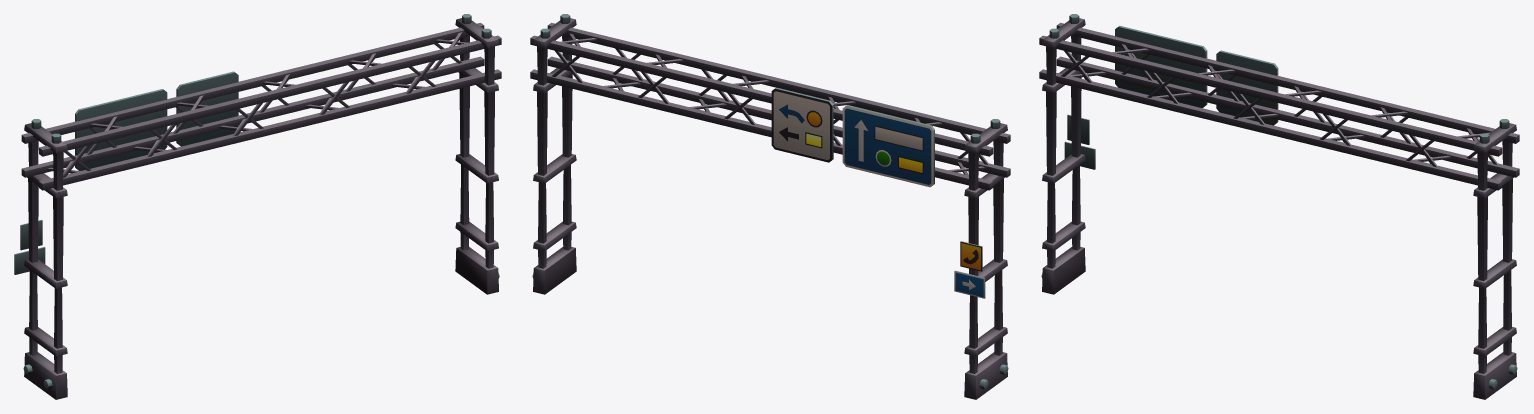
File: Highway_Streetsign_1B.fbx
3 renders of one model, left to right at view 1: azimuth 30°, elevation 25°; view 2: azimuth 150°, elevation 25°; view 3: azimuth 330°, elevation 25°, orthographic.
Parts seen in each view (by area): view 1: Highway_Streetsign_1B, Addon_Sign_1E, Addon_Sign_1D; view 2: Highway_Streetsign_1B, Addon_Sign_1E, Addon_Sign_1D, Addon_Sign_1G, Addon_Sign_1F; view 3: Highway_Streetsign_1B, Addon_Sign_1E, Addon_Sign_1D.
Part boxes in pixels (x1=…): Highway_Streetsign_1B: x1=21, y1=14, x2=501, y2=399; Addon_Sign_1E: x1=75, y1=89, x2=167, y2=170; Addon_Sign_1D: x1=176, y1=71, x2=238, y2=146; Highway_Streetsign_1B: x1=530, y1=14, x2=1010, y2=399; Addon_Sign_1E: x1=842, y1=105, x2=934, y2=187; Addon_Sign_1D: x1=771, y1=87, x2=833, y2=162; Addon_Sign_1G: x1=954, y1=270, x2=985, y2=298; Addon_Sign_1F: x1=960, y1=241, x2=982, y2=271; Highway_Streetsign_1B: x1=1039, y1=14, x2=1519, y2=399; Addon_Sign_1E: x1=1115, y1=25, x2=1207, y2=107; Addon_Sign_1D: x1=1216, y1=50, x2=1278, y2=125.
Size of the model in its own units: 2135 by 1146 by 261.
